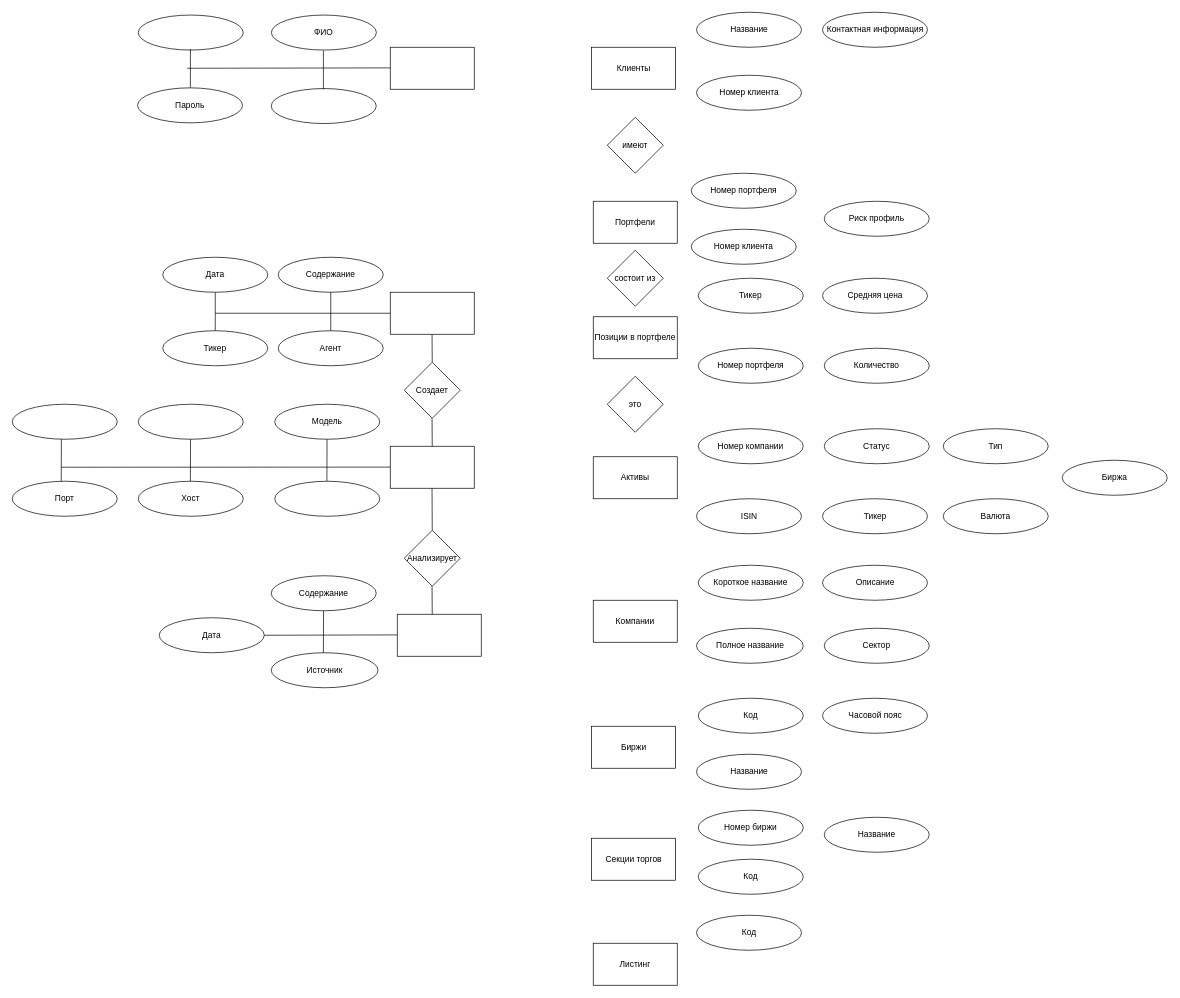
The diagram is 1180 pixels wide and 998 high, and some of its shapes have lost their labels. Here are the shapes that lost their labels. From the top down, the centre of each, then its label:
pixel 190 32: Имя пользователя
pixel 432 68: Сотрудники
pixel 323 106: Роль
pixel 432 313: Сообщения AI агента
pixel 64 421: API ключ
pixel 190 421: Системный промпт
pixel 432 467: AI агент
pixel 327 498: Провайдер
pixel 439 635: Новости
